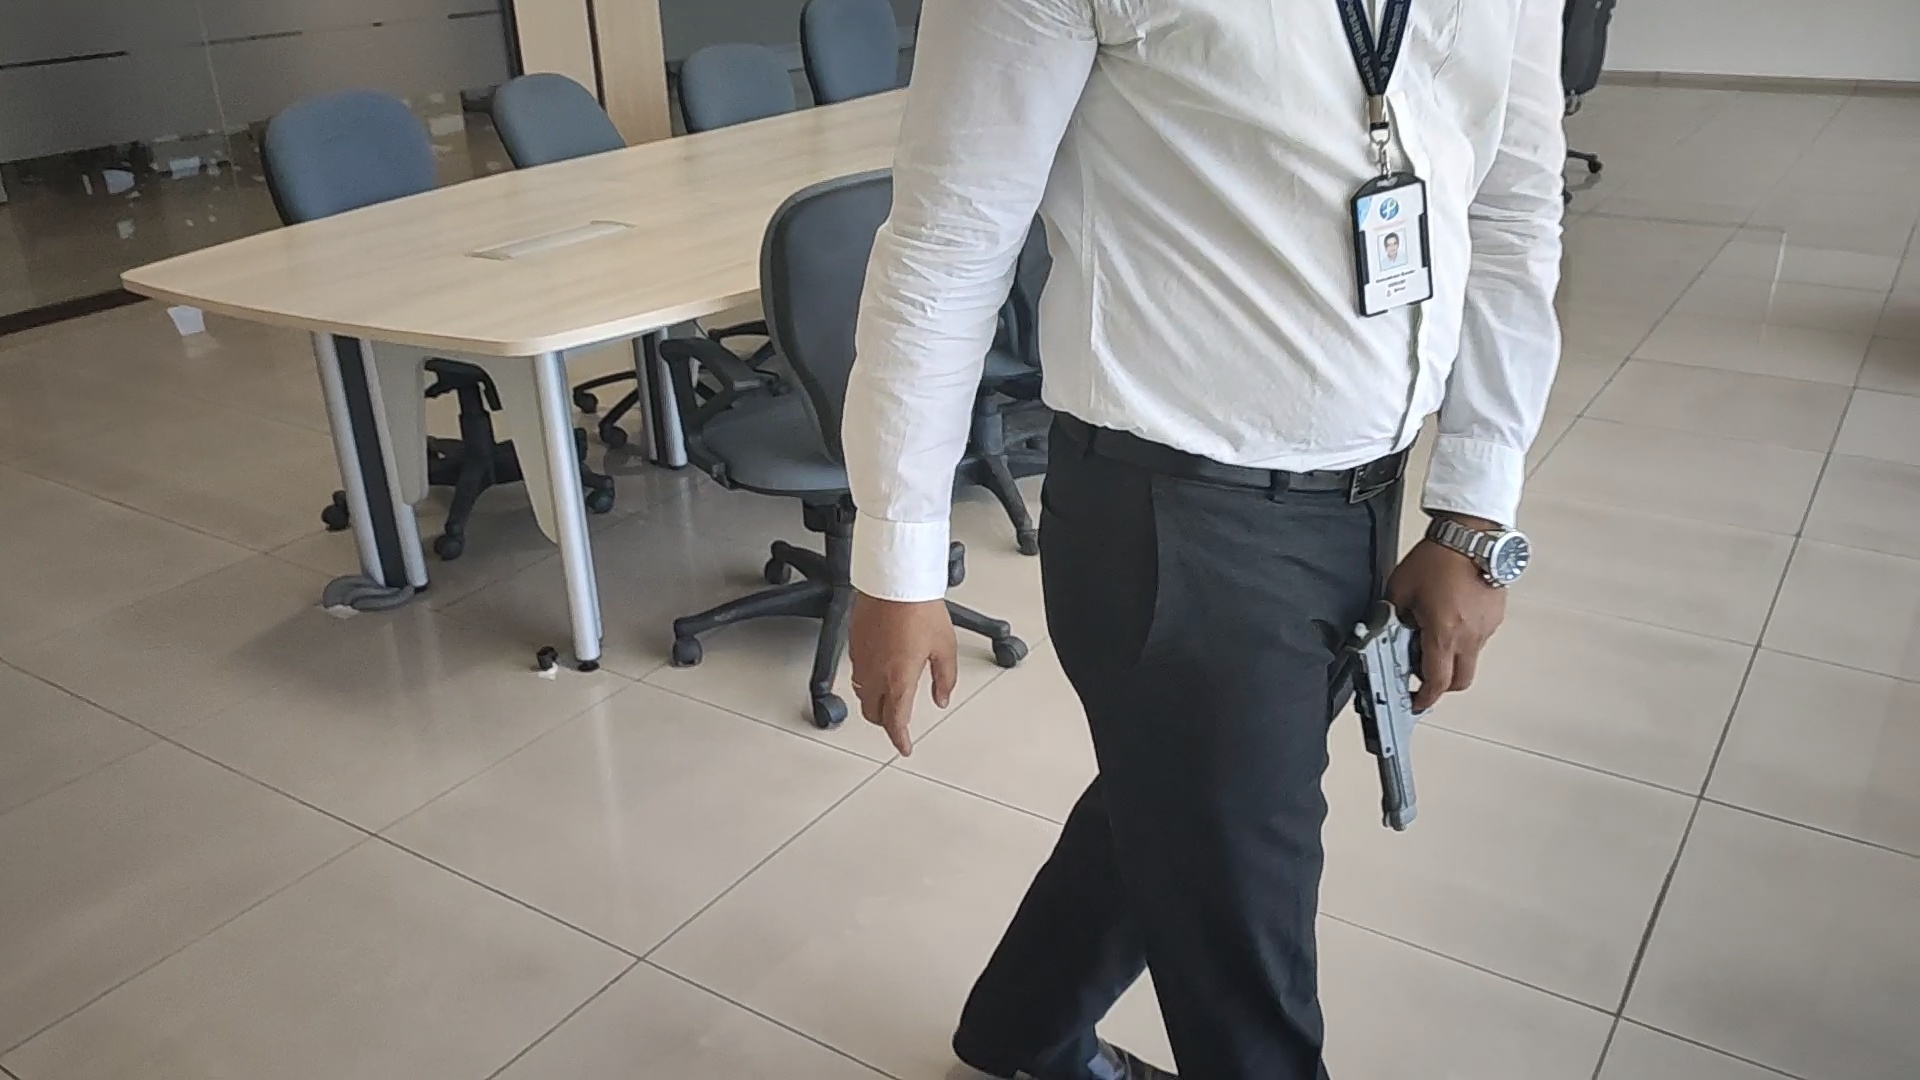gun: (1354, 600, 1427, 832)
